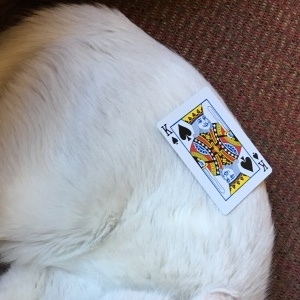card: (156, 84, 275, 216)
